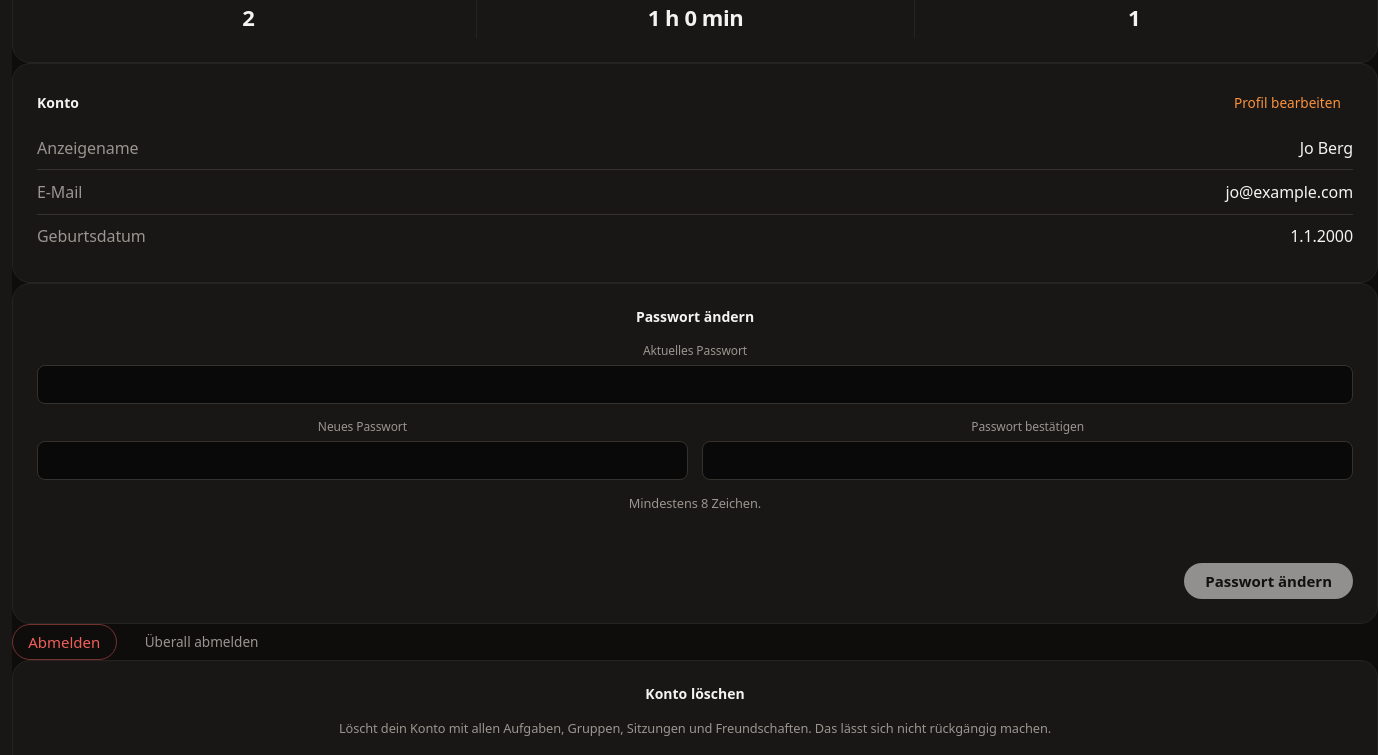
Scenario: ProfileView › changing the password › checks length and confirmation before asking the server
The image size is (1378, 755).
(page scrolled)
Type "old-password" into the password field labelled "Aktuelles Passwort".
click(695, 384); type("old-password")  # box [37, 365, 1353, 404]
Type "short" into the password field labelled "Neues Passwort".
click(362, 460); type("short")  # box [37, 441, 688, 480]
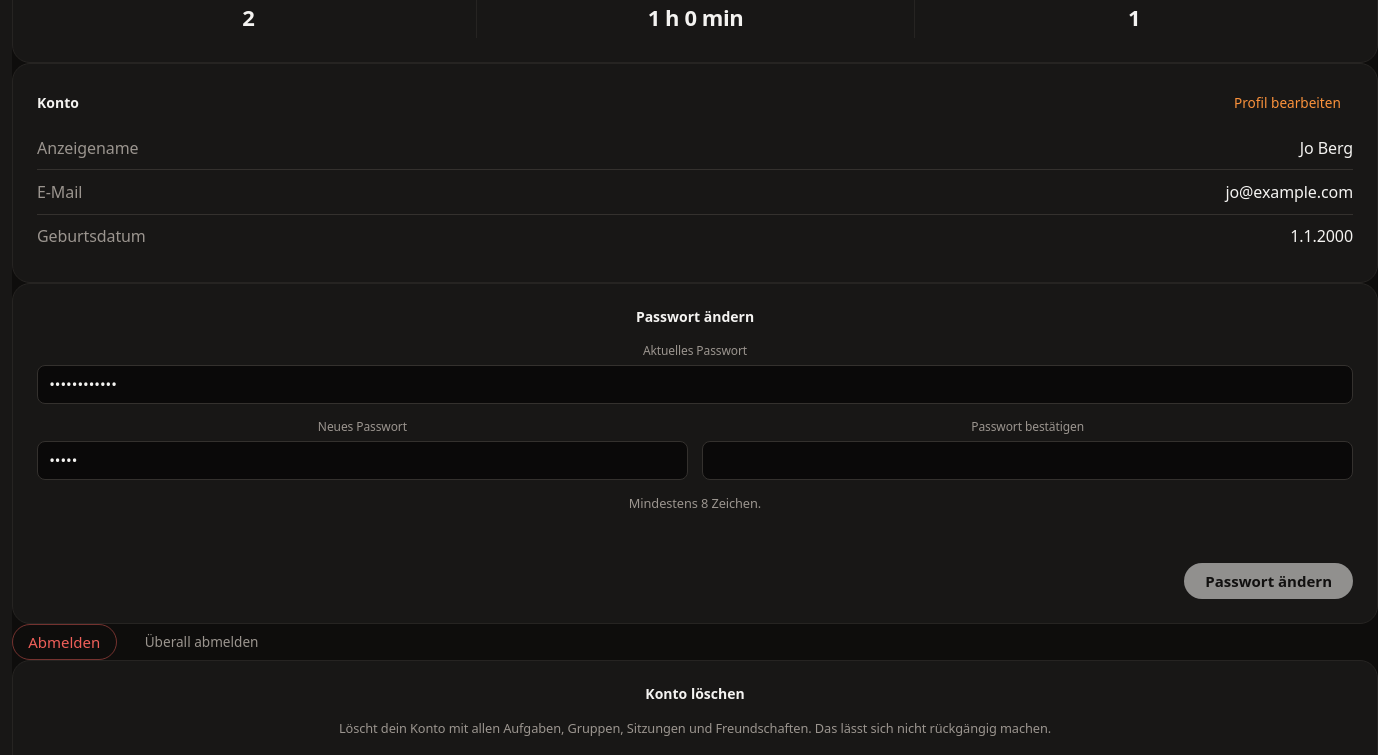
Type "short" into the password field labelled "Passwort bestätigen".
click(1028, 460); type("short")  # box [702, 441, 1353, 480]
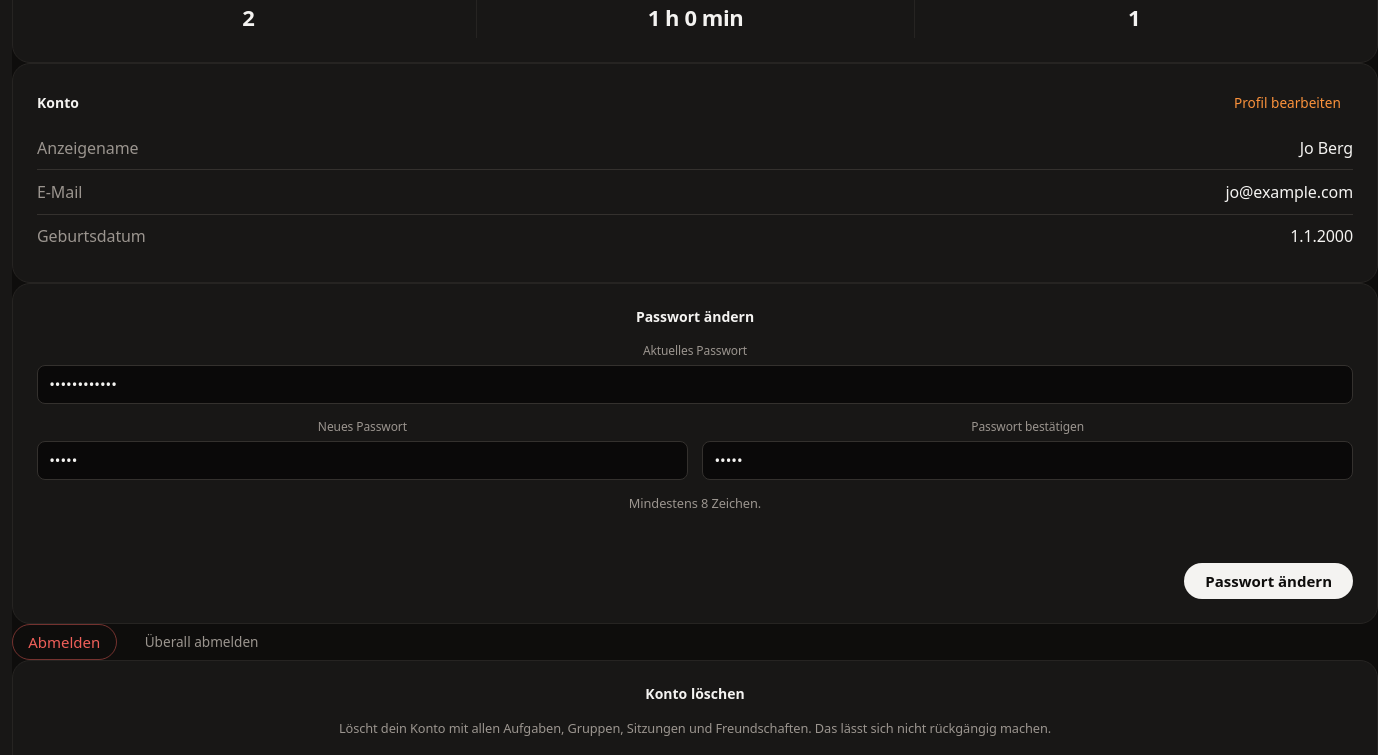
Submit the form labelled "Neues Passwort", box [37, 342, 1353, 599]
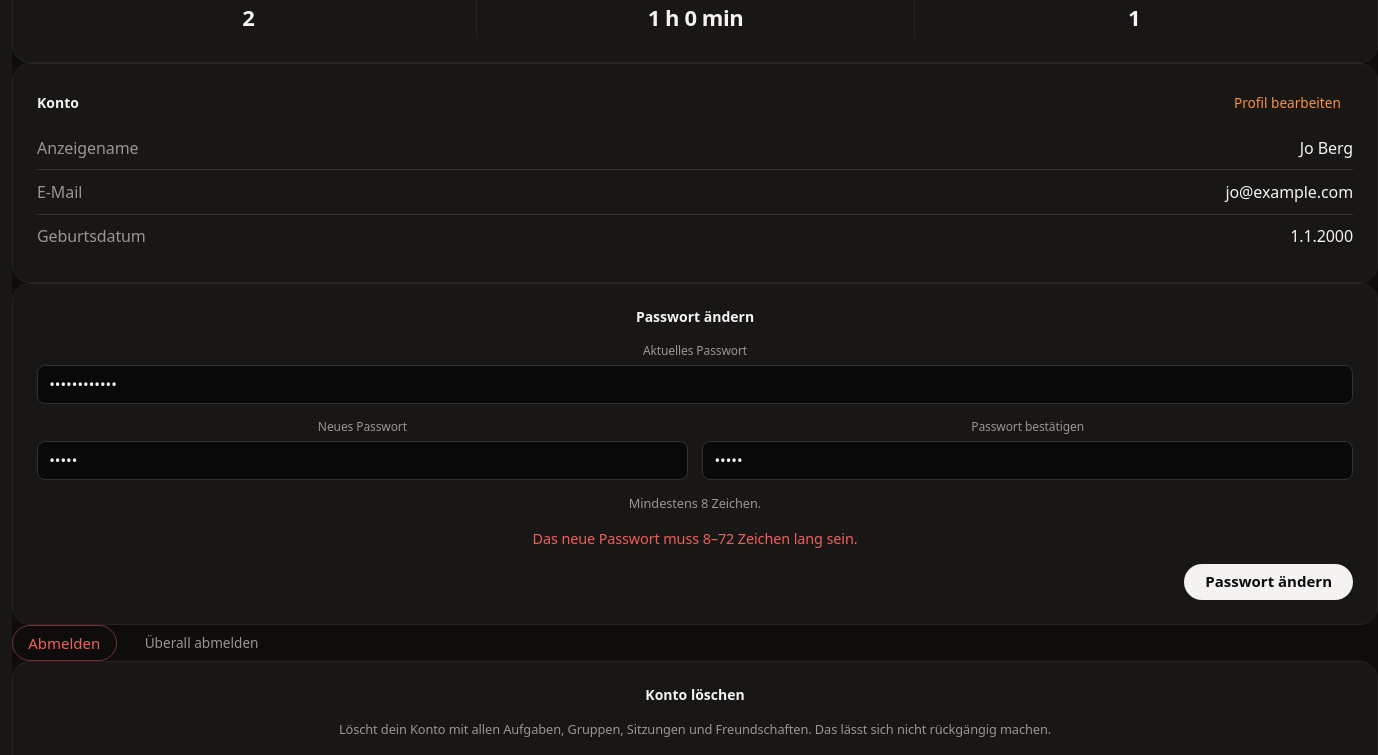
Expected: the text "Das neue Passwort muss 8–72 Zeichen lang sein." is shown, [532, 529, 857, 548]
Type "long-enough-1" into the password field labelled "Neues Passwort".
click(362, 460); type("long-enough-1")  # box [37, 441, 688, 480]
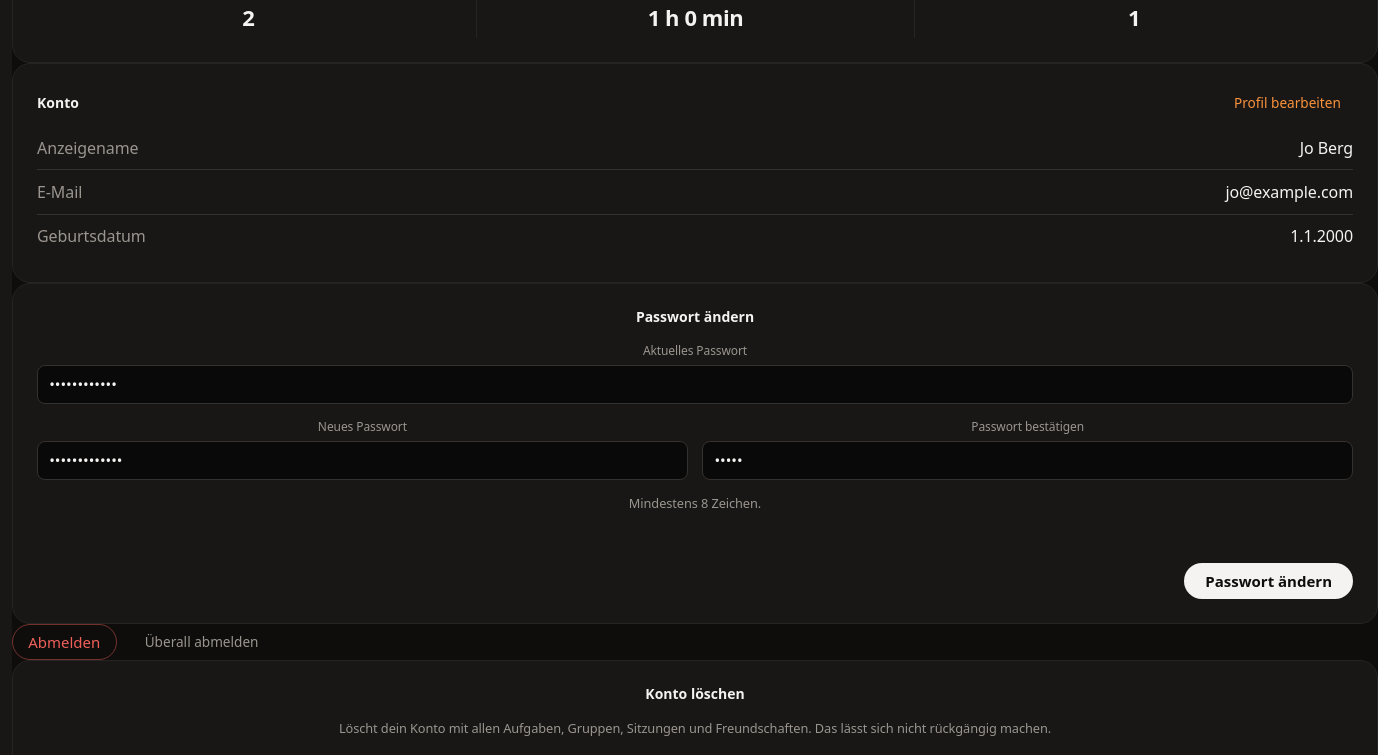
Type "long-enough-2" into the password field labelled "Passwort bestätigen".
click(1028, 460); type("long-enough-2")  # box [702, 441, 1353, 480]
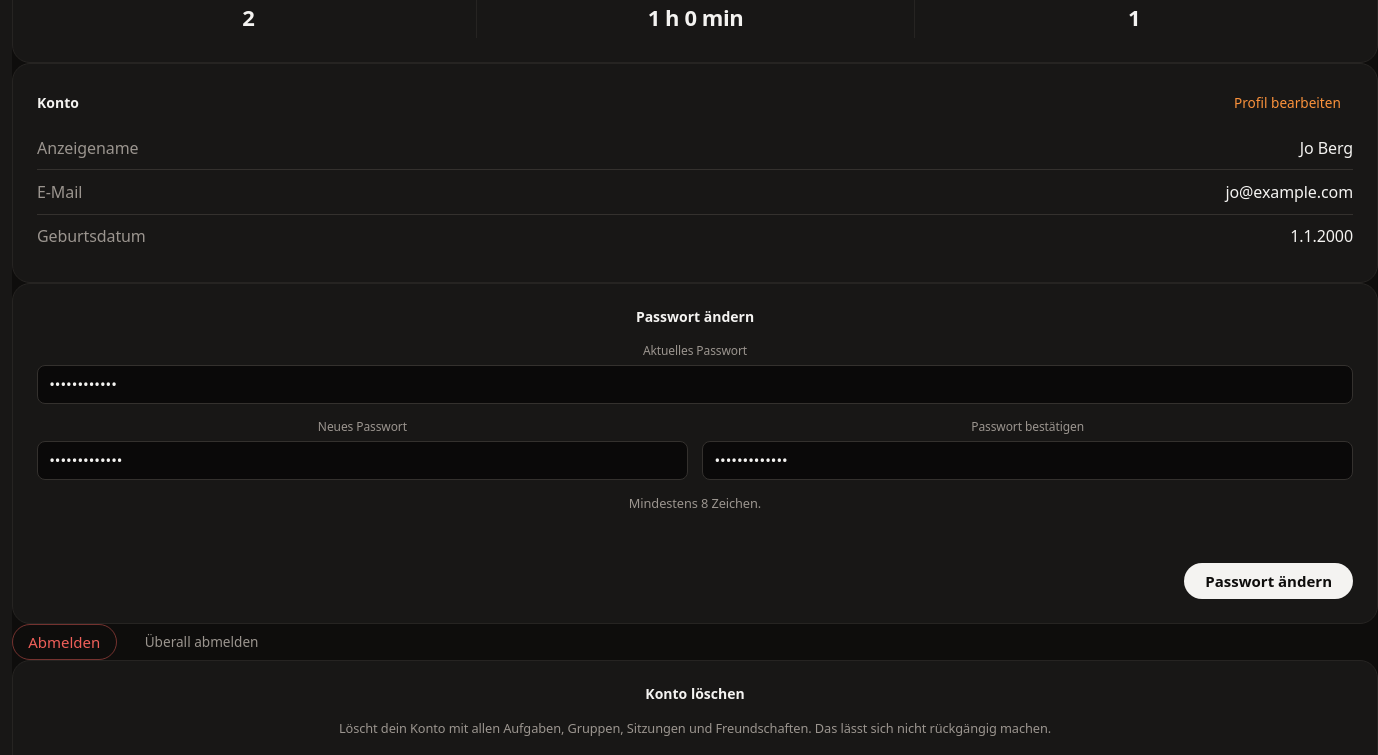
Submit the form labelled "Neues Passwort", box [37, 342, 1353, 599]
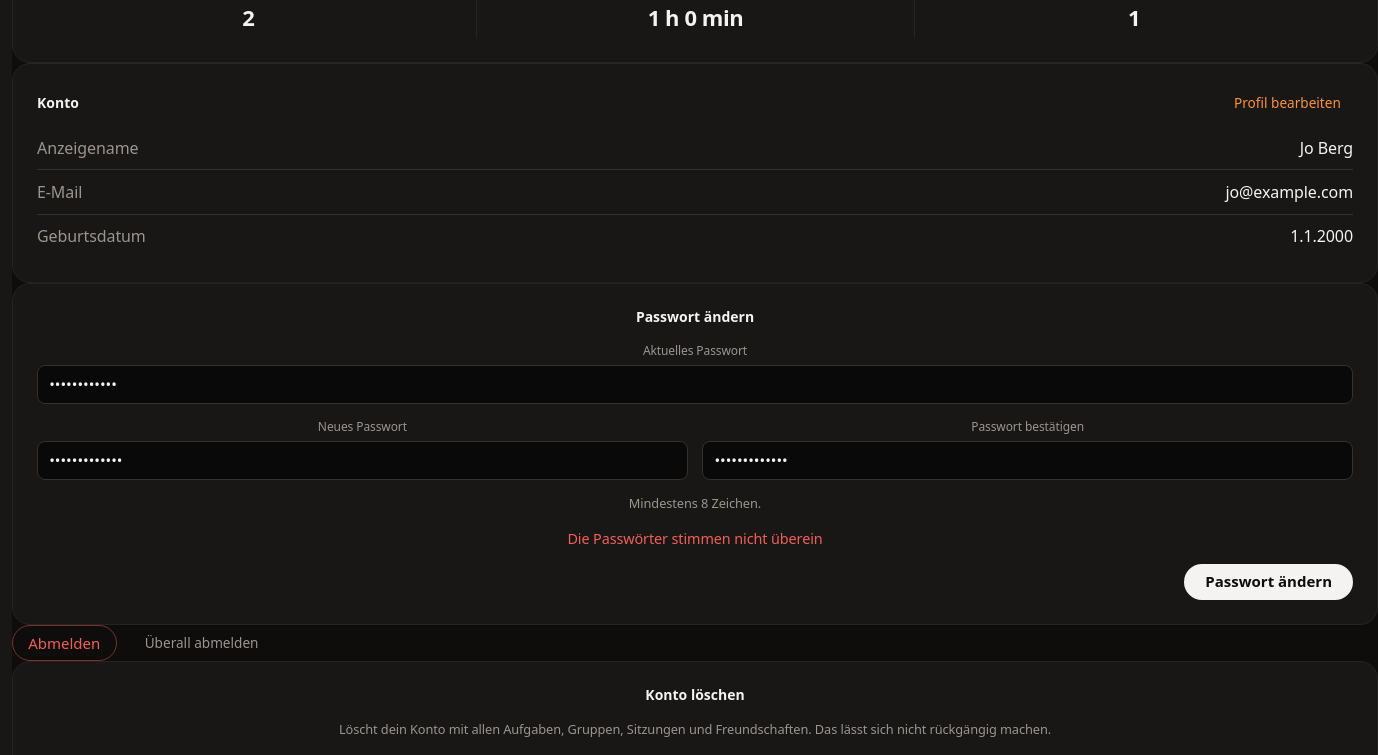
Expected: the text "Die Passwörter stimmen nicht überein" is shown, [567, 529, 823, 548]
